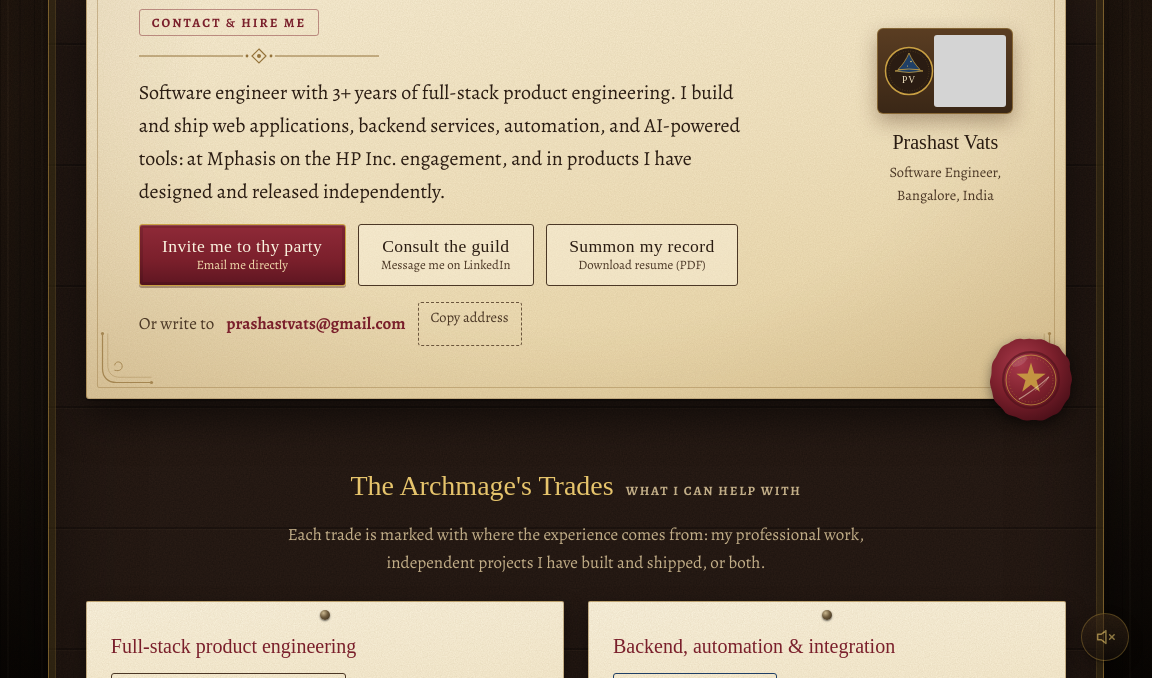
it: copying the address › copies the address and announces it
(page scrolled)
Click the button "Copy address".
click(470, 324)  # box [418,302,522,346]
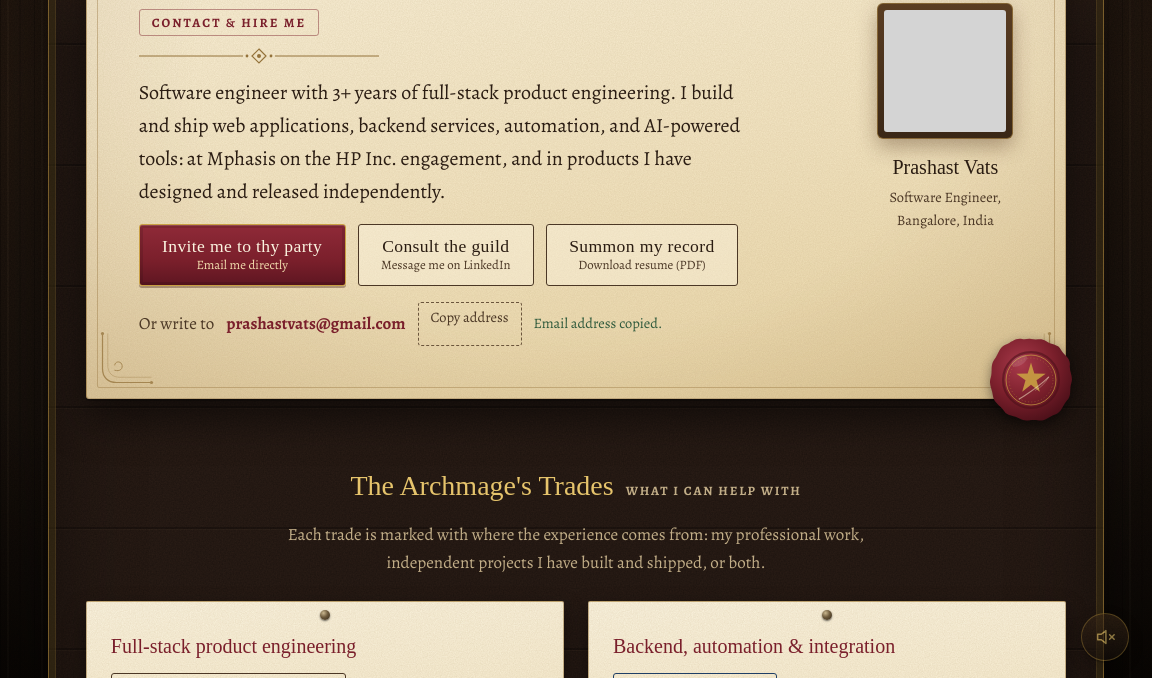
Result: the message reads "Email address copied." at [534,313,662,333]
